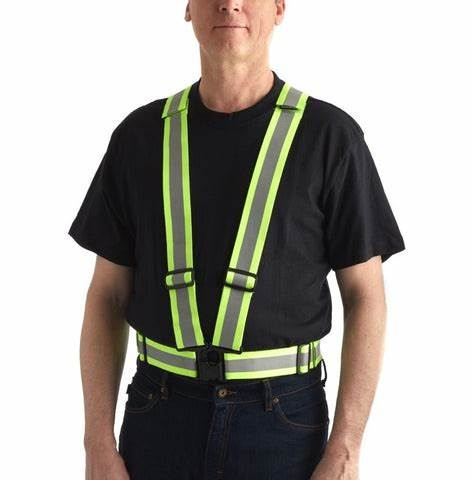Reflective vest: (136, 83, 323, 383)
